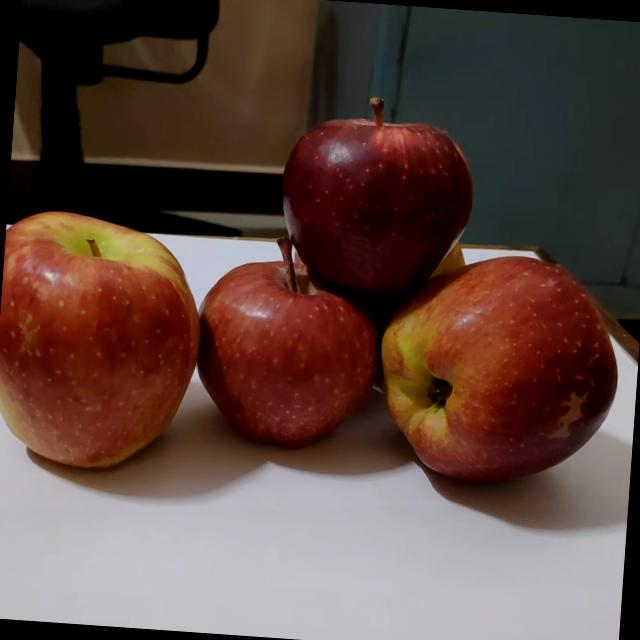apple: (358, 238, 627, 495), (0, 199, 202, 480), (259, 77, 479, 300), (180, 227, 386, 450), (406, 220, 469, 294)
